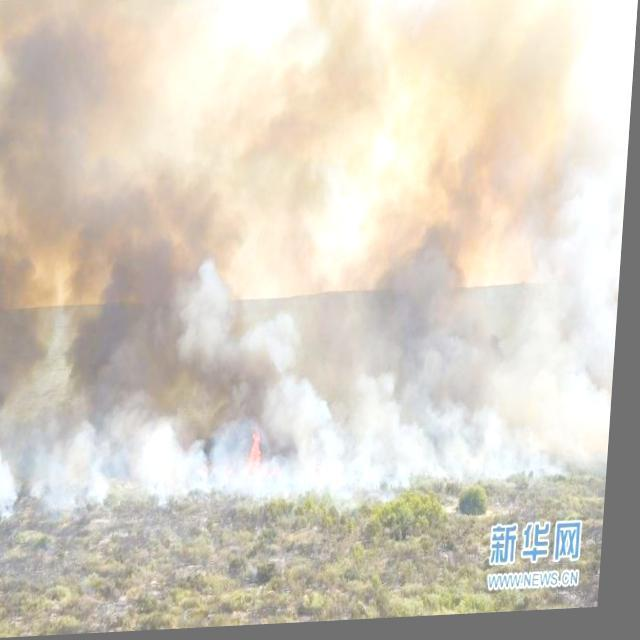Fire: (228, 416, 346, 498)
